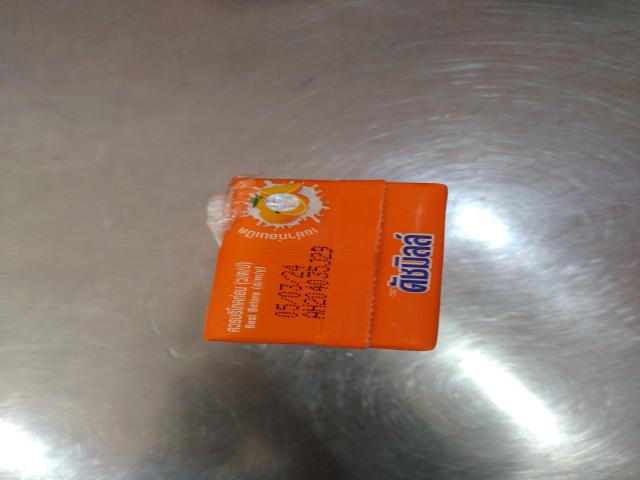drink_box: (193, 168, 466, 366)
